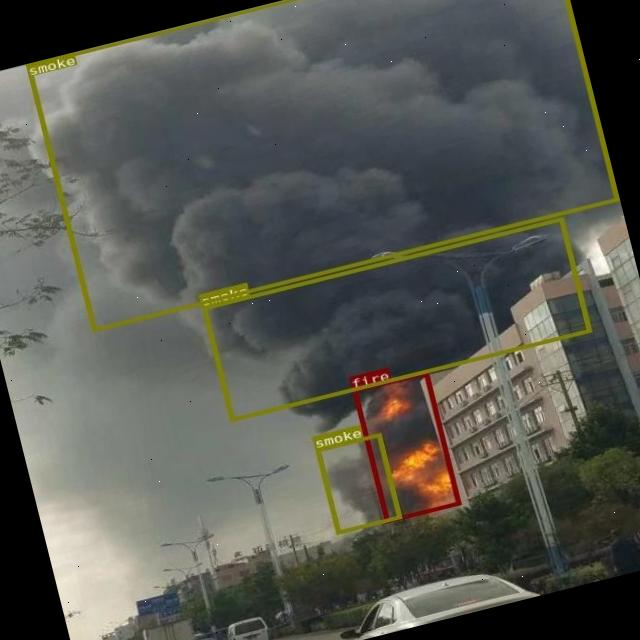fire: (352, 370, 461, 522)
smoke: (24, 0, 617, 329), (200, 215, 590, 420), (315, 432, 401, 534)
